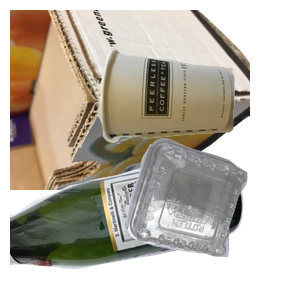cardboard: (10, 10, 250, 190)
glass: (10, 154, 246, 300)
plastic: (123, 136, 300, 300)
trash: (95, 44, 300, 180)
